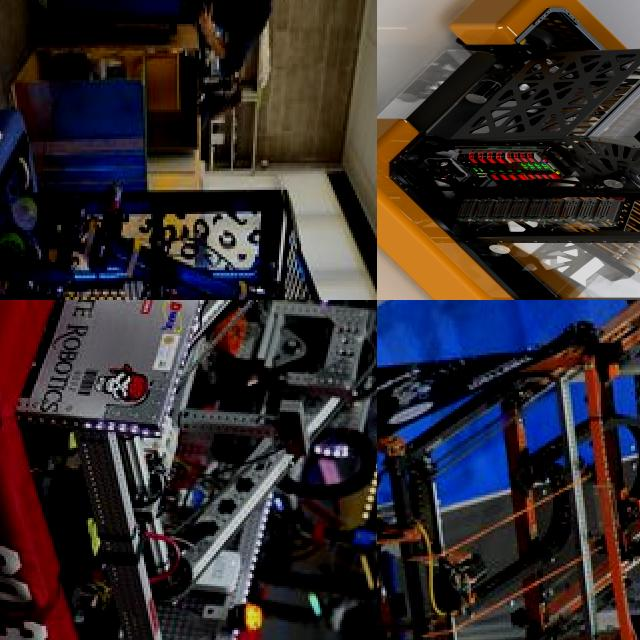FRC-Robots: (0, 300, 377, 640), (377, 300, 640, 640), (377, 0, 640, 300), (0, 93, 332, 300)
